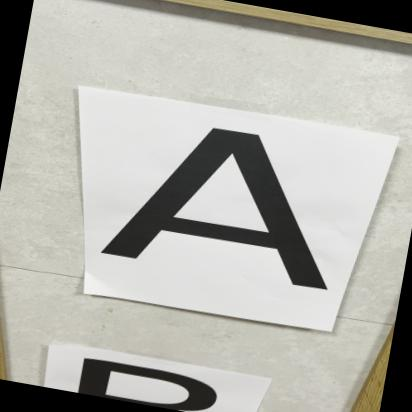seat: (94, 107, 374, 326)
